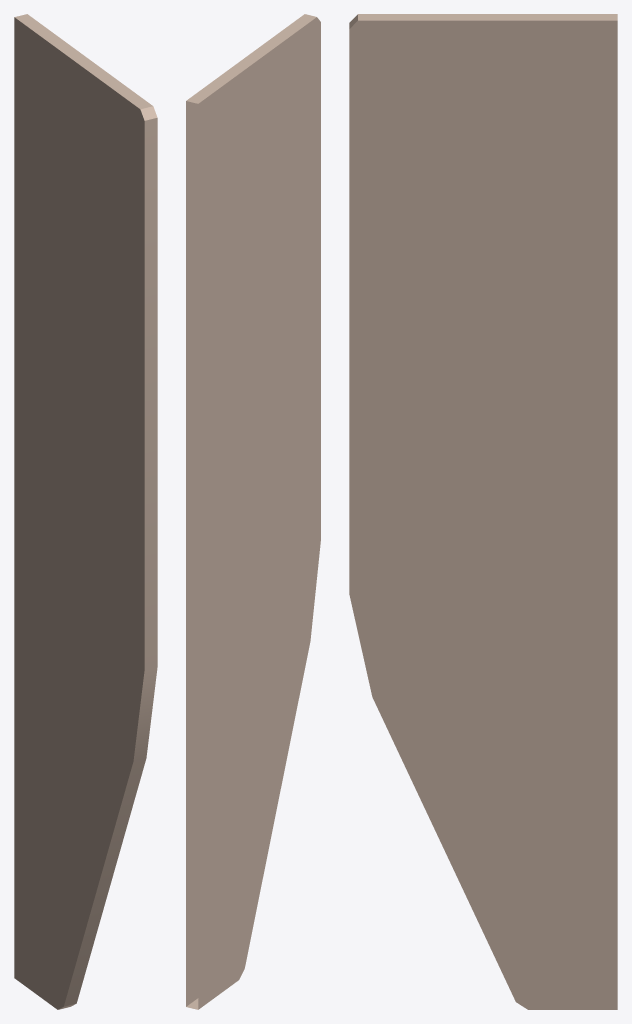
File: toilet wall.FBX
3 views of the same model, side by side, from view 1: azimuth 30°, elevation 25°; view 2: azimuth 150°, elevation 25°; view 3: azimuth 270°, elevation 25° (orthographic). The views are drawn at different scales.
Visible parts, largest first — view 1: toilet wall; view 2: toilet wall; view 3: toilet wall.
Boxes of the visible parts, x1,y1,x2,y2 form: toilet wall: [14, 14, 157, 1009]; toilet wall: [186, 14, 320, 1009]; toilet wall: [349, 14, 617, 1009].
Size of the model in its own units: 2.66 by 189 by 46.3.
